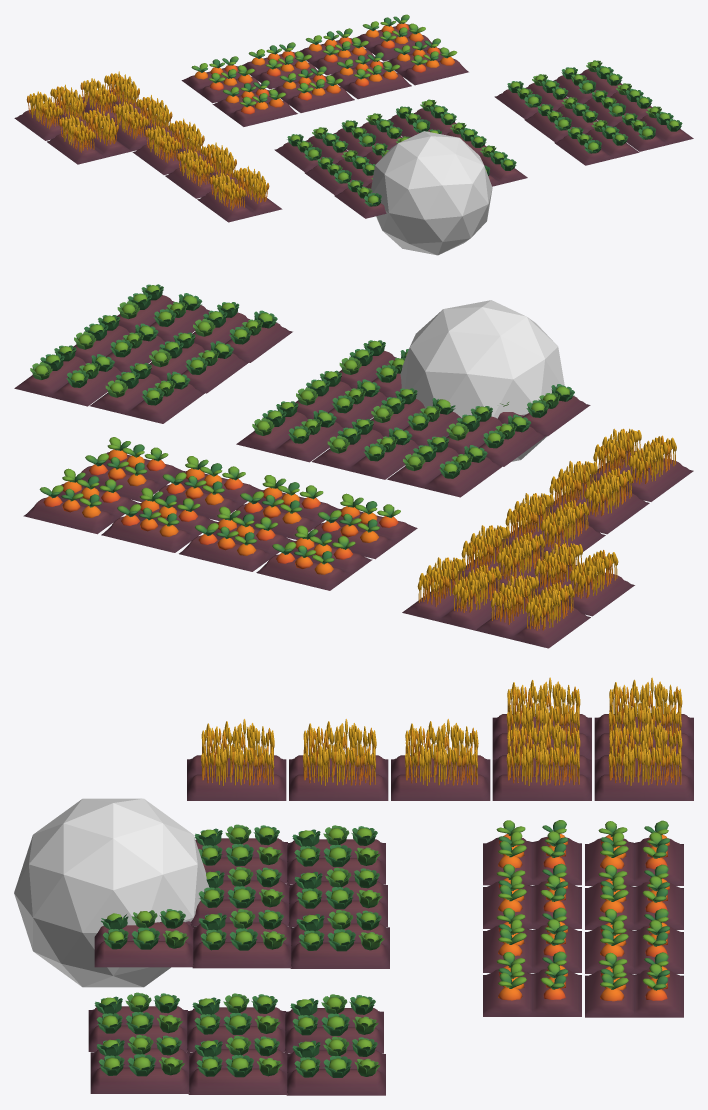
The model's file is panen.fbx.
The picture shows the model from 3 angles, top to bottom: view 1: azimuth 30°, elevation 25°; view 2: azimuth 150°, elevation 25°; view 3: azimuth 270°, elevation 25°; orthographic projection. The views are drawn at different scales.
Parts seen in each view (by area): view 1: Icosphere, Farm_Wheat.002, Farm_Wheat.011, Farm_Wheat.003, Farm_Wheat.012, Farm_Wheat.004, Farm_Carrot.001, Farm_Carrot.005, Farm_Carrot.007, Farm_Carrot.003, Farm_Cabbage.010, Farm_Wheat.005 (+17 smaller); view 2: Icosphere, Farm_Wheat.012, Farm_Wheat.006, Farm_Wheat.003, Farm_Wheat.002, Farm_Wheat.011, Farm_Carrot.002, Farm_Carrot.004, Farm_Carrot.006, Farm_Carrot.008, Farm_Cabbage.003, Farm_Cabbage.012 (+18 smaller); view 3: Icosphere, Farm_Wheat.005, Farm_Wheat.004, Farm_Wheat.006, Farm_Wheat.003, Farm_Wheat.002, Farm_Cabbage.008, Farm_Cabbage.013, Farm_Cabbage.015, Farm_Cabbage.014, Farm_Cabbage.009, Farm_Carrot.008 (+17 smaller).
Boxes of the visible parts, <box> form: Icosphere: <box>371,131,492,255</box>; Farm_Wheat.002: <box>197,166,282,222</box>; Farm_Wheat.011: <box>47,108,131,164</box>; Farm_Wheat.003: <box>165,142,244,198</box>; Farm_Wheat.012: <box>14,84,93,140</box>; Farm_Wheat.004: <box>132,118,211,174</box>; Farm_Carrot.001: <box>212,80,297,126</box>; Farm_Carrot.005: <box>330,52,411,99</box>; Farm_Carrot.007: <box>387,38,468,85</box>; Farm_Carrot.003: <box>273,66,354,112</box>; Farm_Cabbage.010: <box>554,120,639,165</box>; Farm_Wheat.005: <box>102,95,179,151</box>; Icosphere: <box>400,300,564,461</box>; Farm_Wheat.012: <box>475,575,590,648</box>; Farm_Wheat.006: <box>402,557,511,630</box>; Farm_Wheat.003: <box>546,461,649,534</box>; Farm_Wheat.002: <box>590,428,693,501</box>; Farm_Wheat.011: <box>527,543,634,616</box>; Farm_Carrot.002: <box>256,525,372,590</box>; Farm_Carrot.004: <box>179,506,294,571</box>; Farm_Carrot.006: <box>101,487,216,552</box>; Farm_Carrot.008: <box>23,468,139,534</box>; Farm_Cabbage.003: <box>387,436,501,497</box>; Farm_Cabbage.012: <box>90,363,204,423</box>; Icosphere: <box>14,798,209,987</box>; Farm_Wheat.005: <box>492,719,591,800</box>; Farm_Wheat.004: <box>391,719,490,800</box>; Farm_Wheat.006: <box>594,719,693,800</box>; Farm_Wheat.003: <box>289,719,388,800</box>; Farm_Wheat.002: <box>187,719,286,800</box>; Farm_Cabbage.008: <box>192,909,291,968</box>; Farm_Cabbage.013: <box>90,1034,189,1093</box>; Farm_Cabbage.015: <box>286,1036,385,1095</box>; Farm_Cabbage.014: <box>188,1035,287,1094</box>; Farm_Cabbage.009: <box>290,910,389,968</box>; Farm_Carrot.008: <box>585,952,683,1017</box>.
Bounding box in the file's own units: 901 × 200 × 685.
